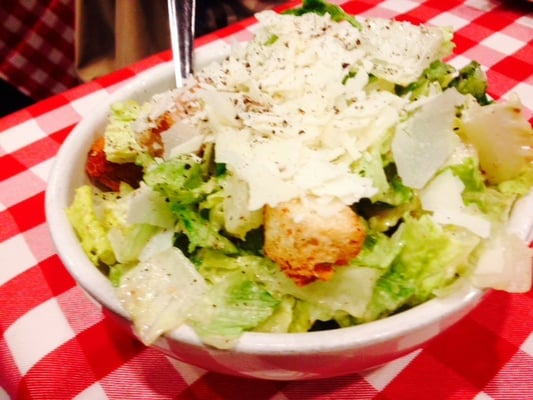curry: (0, 26, 516, 400)
